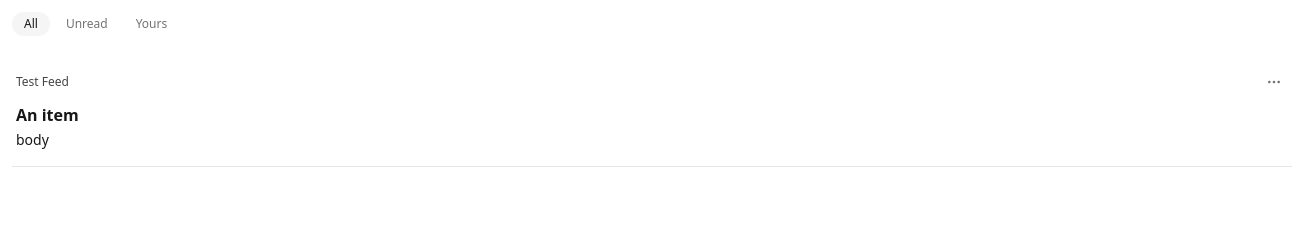
Scenario: StreamView › marks a feed item read via the per-card menu, optimistically
Click the button named "more" at [1274, 82], box [1260,68,1288,96]
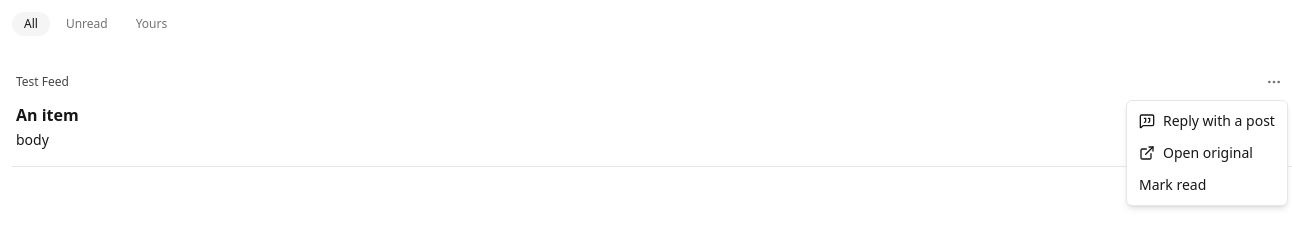
Click the menu item "Mark read" at [1173, 184], box [1139,175,1206,194]
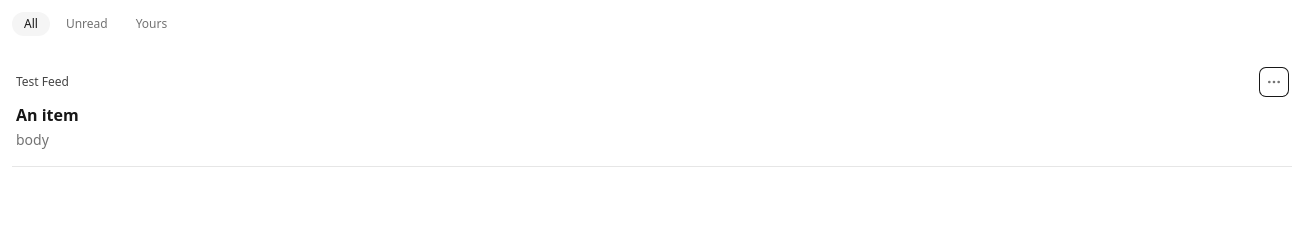
Click the button named "more" at [1274, 82], box [1260,68,1288,96]
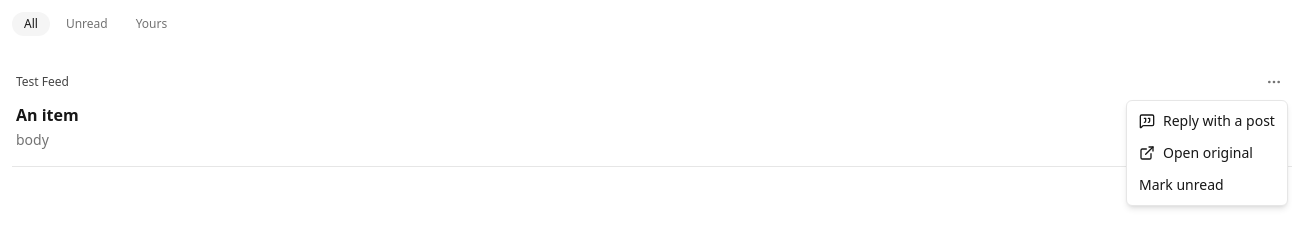
Now the menu item "Mark unread" is shown, box [1139,175,1224,194]
